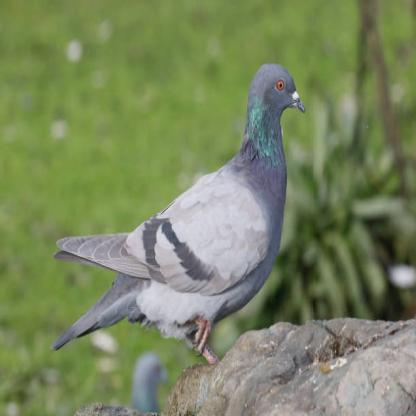Flying Rat: (50, 59, 307, 367)
